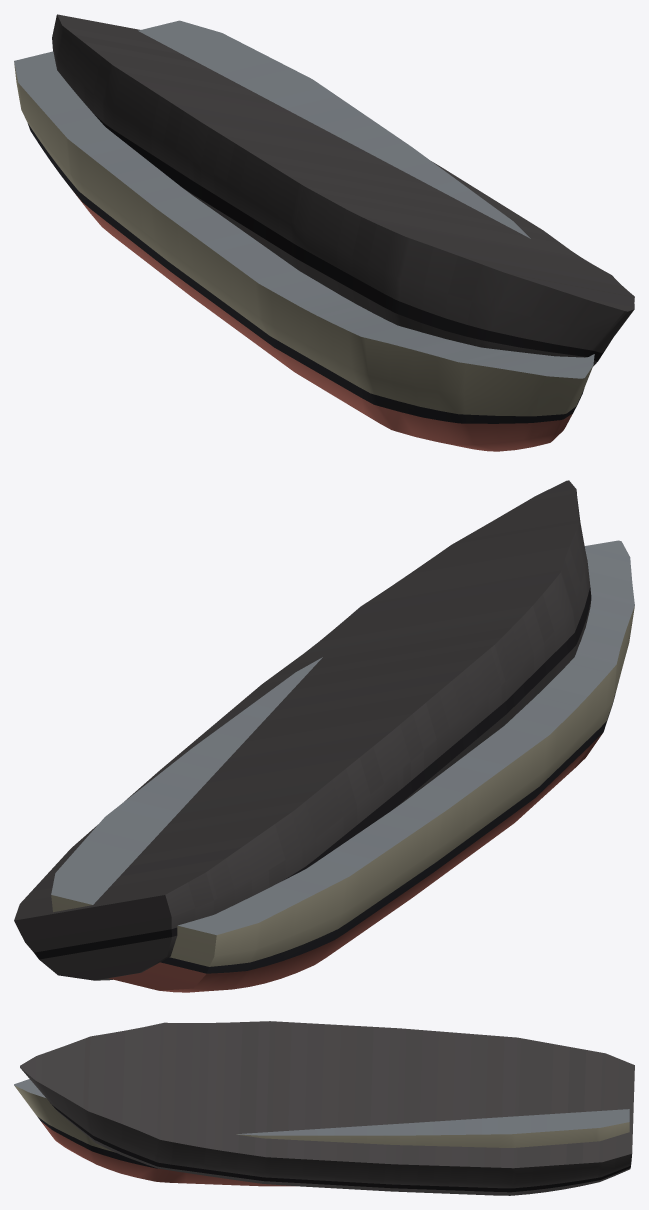
Rendered from seaDrone__inspector_90.glb.
The picture shows the model from 3 angles, top to bottom: view 1: azimuth 30°, elevation 25°; view 2: azimuth 150°, elevation 25°; view 3: azimuth 270°, elevation 25°; orthographic projection. The views are drawn at different scales.
Visible parts, largest first — view 1: Wreck, Hull_Mesh; view 2: Wreck, Hull_Mesh; view 3: Wreck, Hull_Mesh.
Part boxes in pixels (box(x1,y1,x2,y2)): Wreck: box(52, 14, 634, 366); Hull_Mesh: box(14, 20, 594, 451); Wreck: box(14, 480, 591, 980); Hull_Mesh: box(51, 540, 634, 992); Wreck: box(20, 1021, 634, 1195); Hull_Mesh: box(14, 1079, 629, 1186).
Size of what is drawn, in the model's own units: 3.26 by 2.2 by 9.67.
